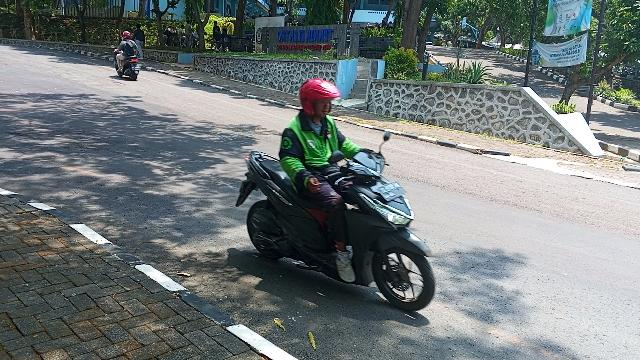helm: (299, 78, 344, 121)
motor: (234, 128, 440, 318)
